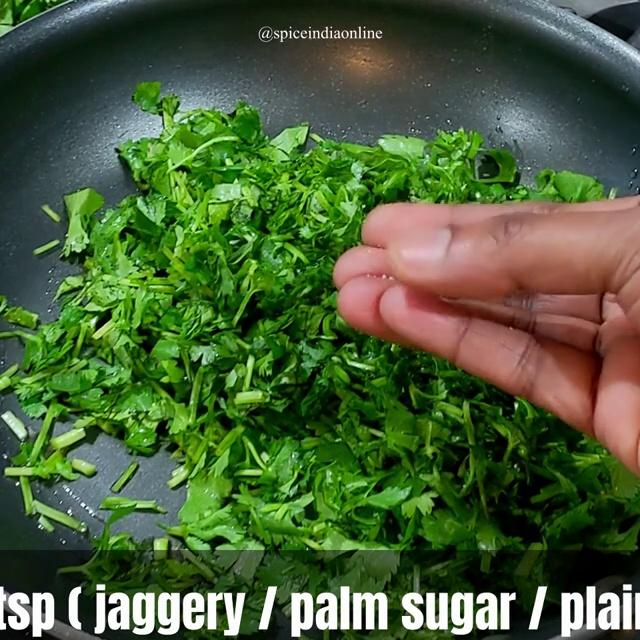cilantro: (104, 124, 330, 431)
